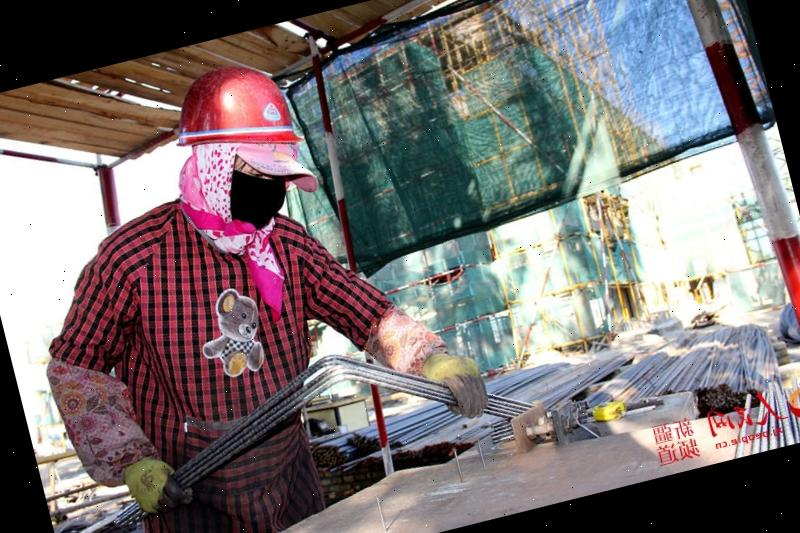helmet: (159, 50, 304, 166)
no_wear: (82, 207, 355, 510)
